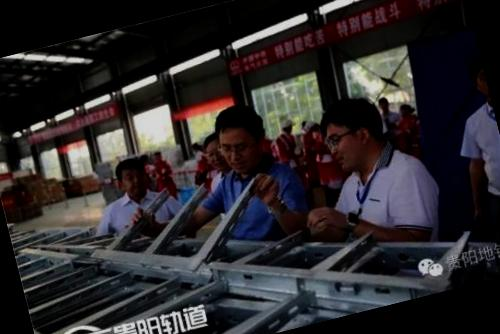no_helmet: (312, 90, 393, 180), (204, 100, 272, 179), (110, 150, 154, 204), (200, 130, 233, 175)
